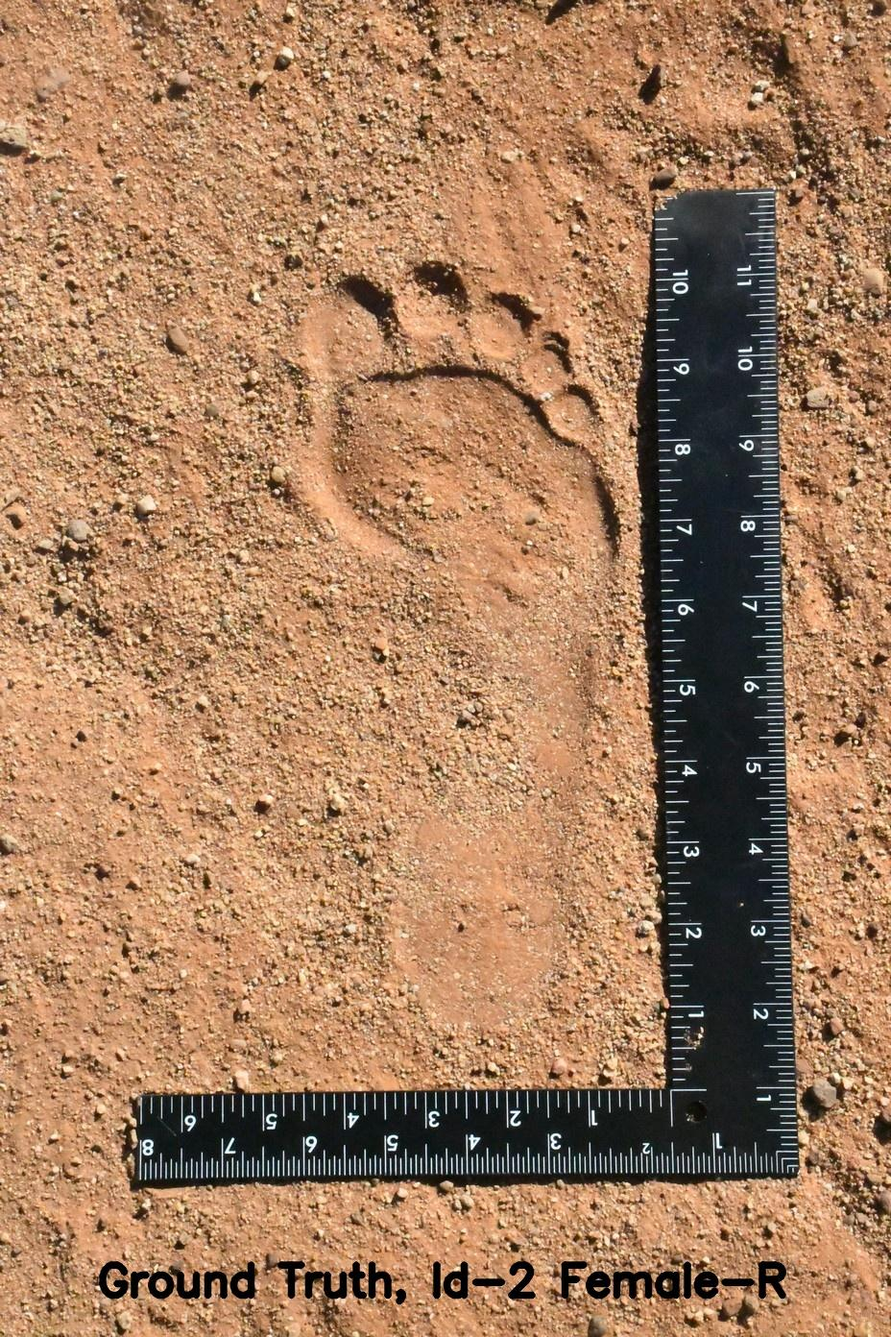human_foot_print: (237, 209, 640, 1040)
